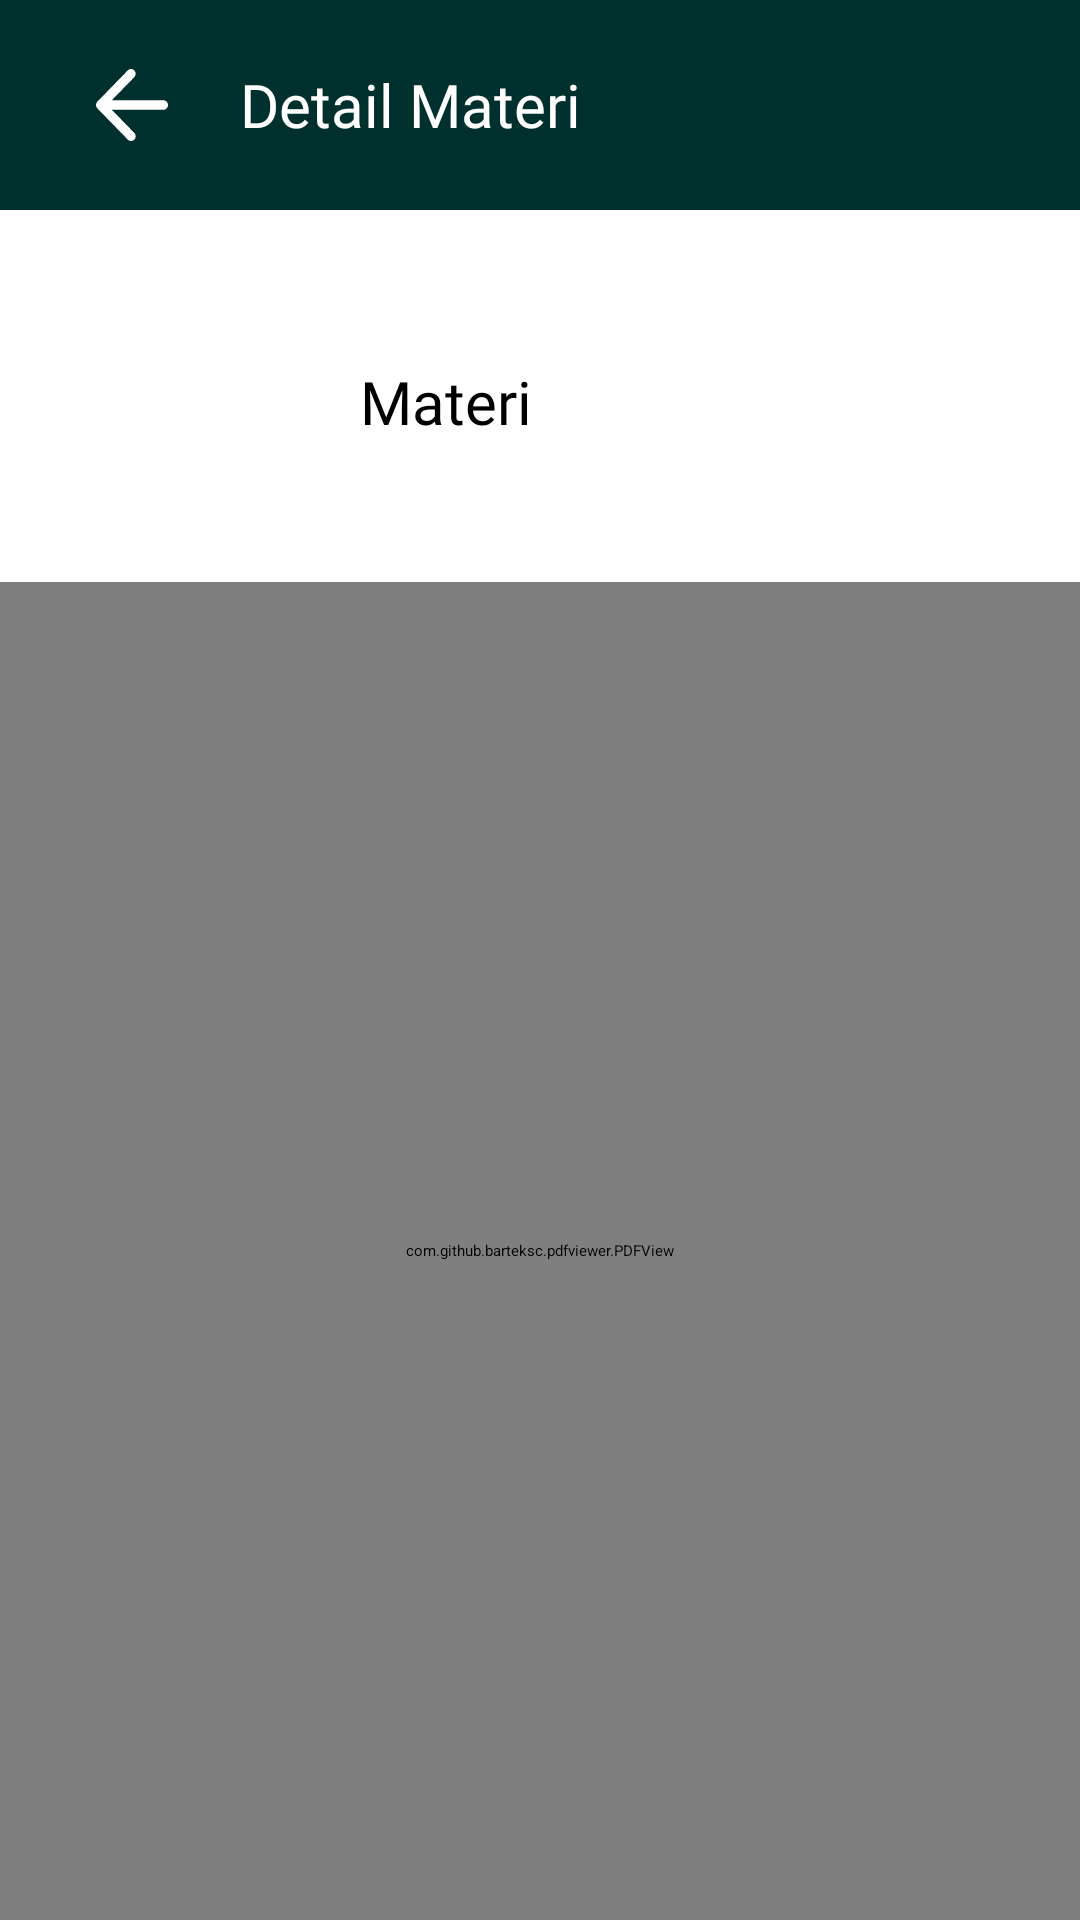

Icons on this 1080*1920 Android screen, each with its box as [x1,y1,x2,y2]:
back: [96,69,168,141]
